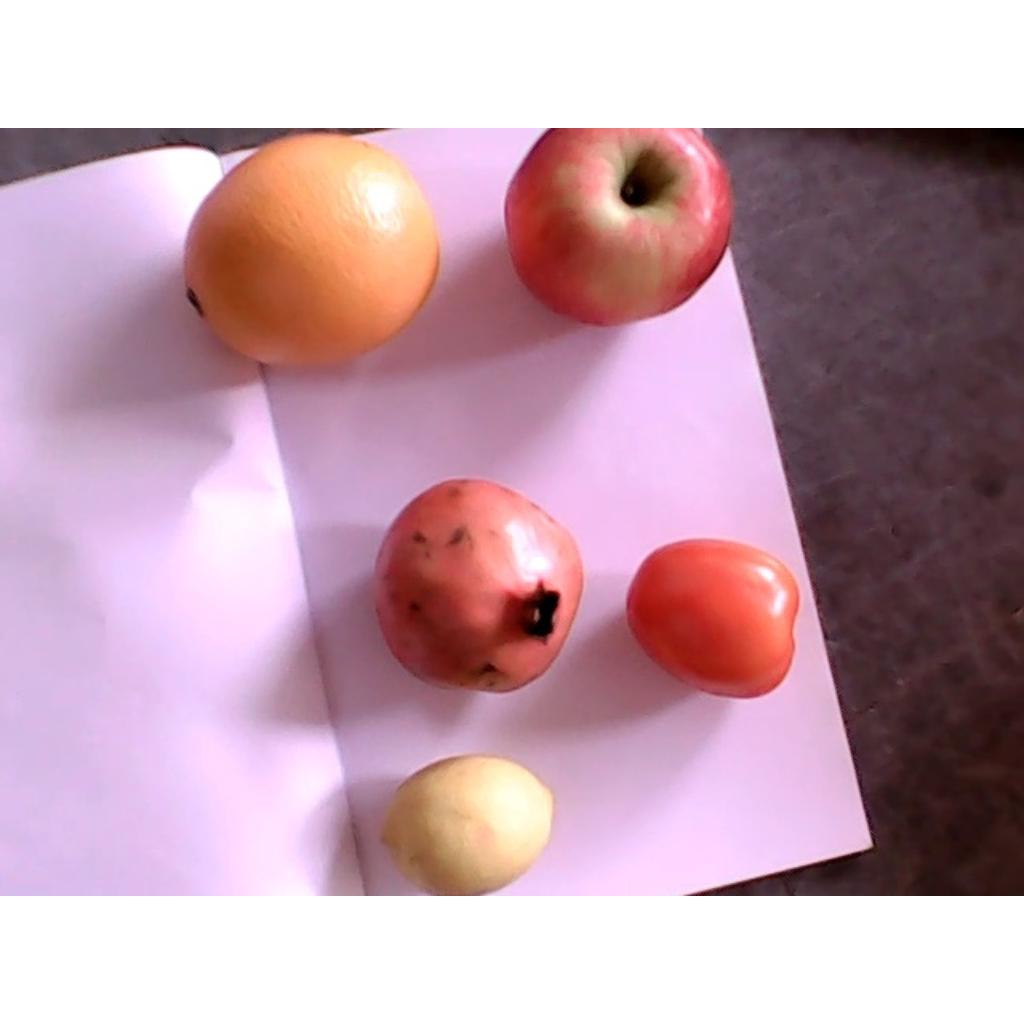apple: (505, 128, 734, 326)
lemon: (378, 757, 557, 894)
orange: (184, 131, 439, 367)
pomegranate: (372, 479, 584, 695)
tomato: (625, 539, 798, 698)
